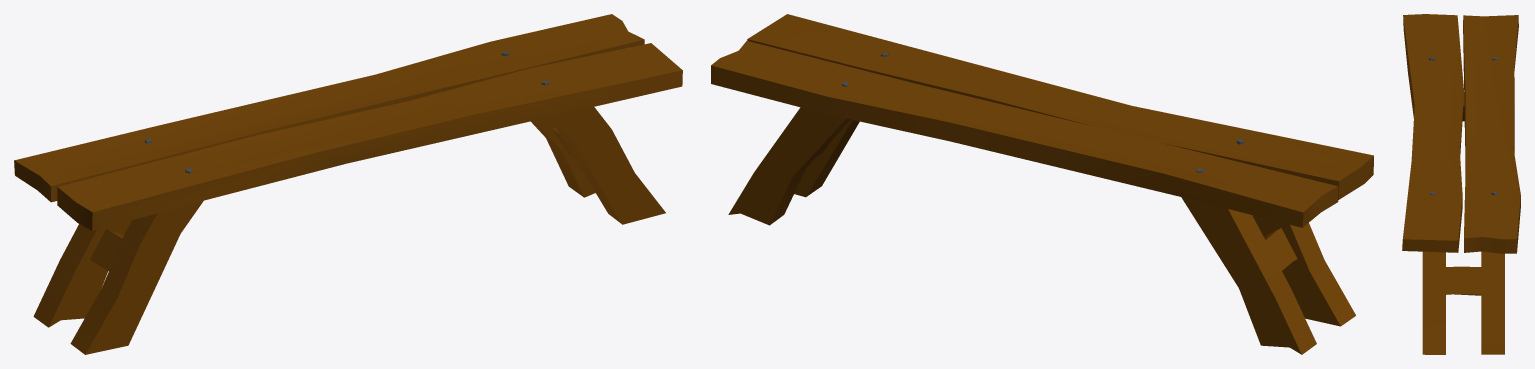
Rendered from LongChair.fbx.
The picture shows the model from 3 angles, left to right: view 1: azimuth 30°, elevation 25°; view 2: azimuth 150°, elevation 25°; view 3: azimuth 270°, elevation 25°; orthographic projection. The views are drawn at different scales.
Visible parts, largest first — view 1: Chair_Long_Cube.005; view 2: Chair_Long_Cube.005; view 3: Chair_Long_Cube.005.
Part boxes in pixels (x1=…): Chair_Long_Cube.005: x1=14, y1=14, x2=682, y2=354; Chair_Long_Cube.005: x1=711, y1=14, x2=1373, y2=354; Chair_Long_Cube.005: x1=1402, y1=14, x2=1520, y2=354.
Bounding box in the file's own units: 201 × 49.98 × 44.61.
